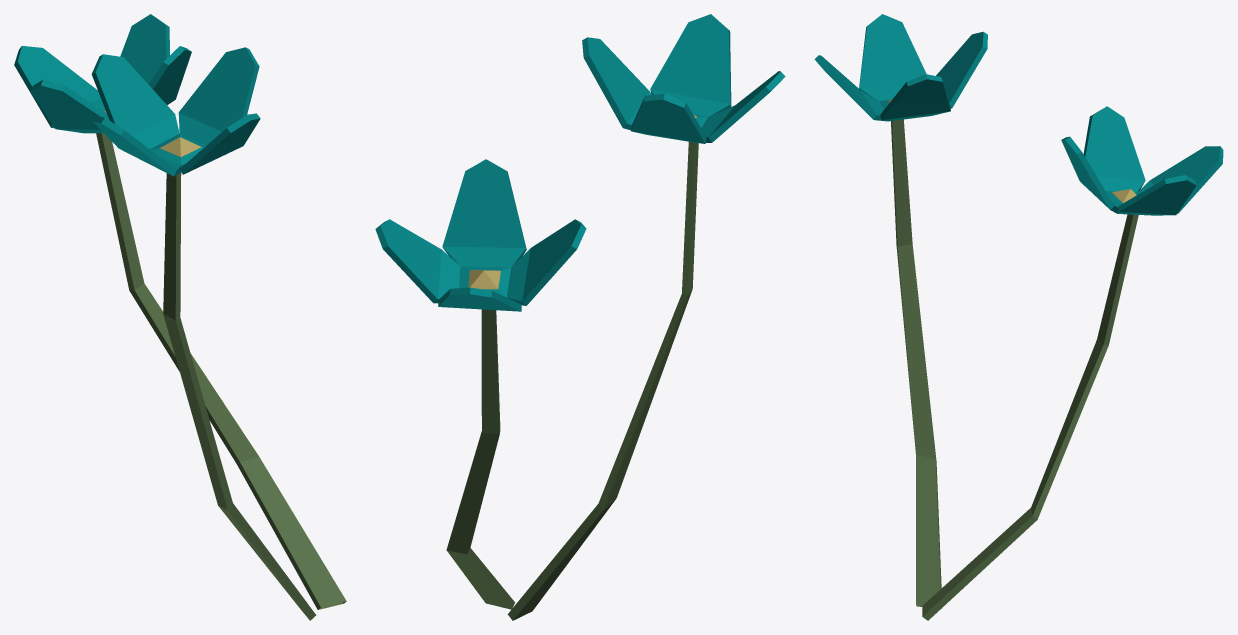
The model's file is flower.obj.
3 views of the same model, side by side, from view 1: azimuth 30°, elevation 25°; view 2: azimuth 150°, elevation 25°; view 3: azimuth 270°, elevation 25° (orthographic). The views are drawn at different scales.
Parts seen in each view (by area): view 1: Flowers; view 2: Flowers; view 3: Flowers.
Part boxes in pixels (bbox=[...]): Flowers: bbox=[14, 14, 346, 620]; Flowers: bbox=[375, 14, 785, 620]; Flowers: bbox=[814, 14, 1223, 620].
Size of the model in its own units: 0.3548 by 0.7364 by 0.5381.
3 materials, 3 textured.
